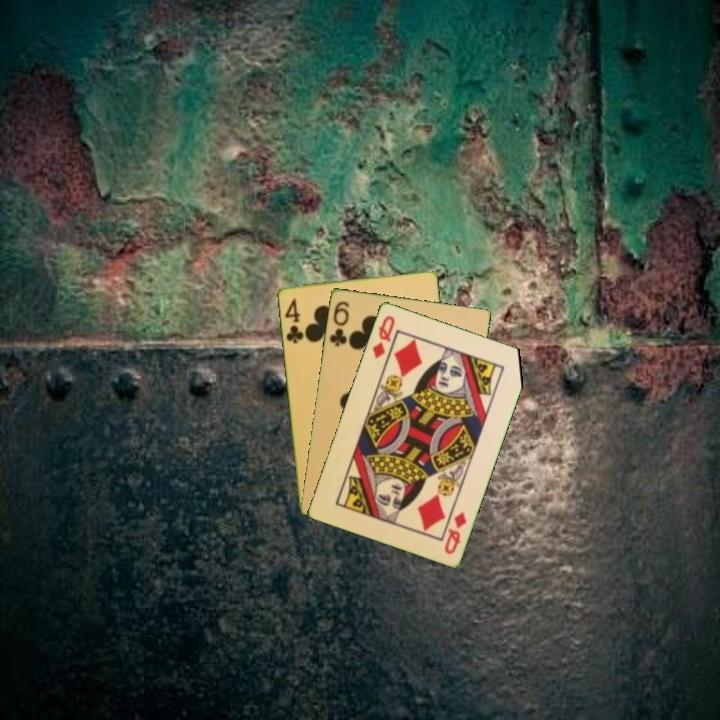4c: (281, 294, 306, 346)
6c: (325, 297, 352, 349)
Qd: (368, 312, 398, 361), (441, 508, 470, 557)
